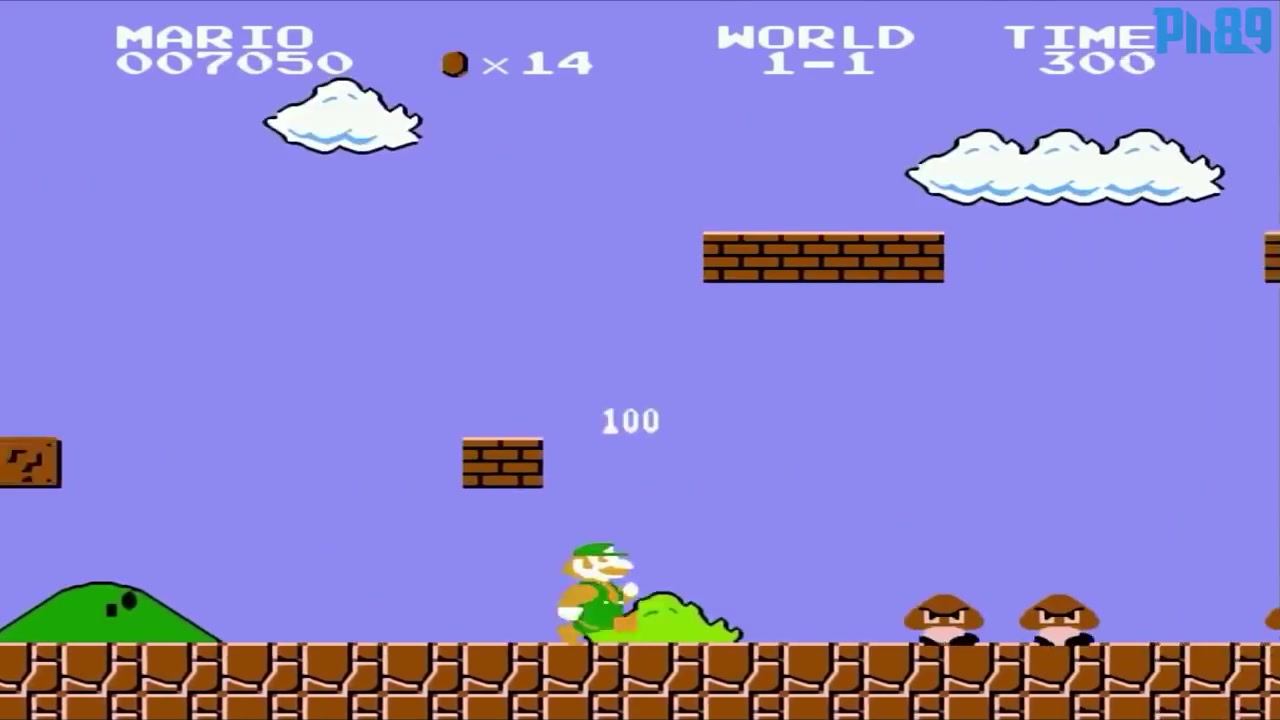mario: (549, 526, 646, 643)
